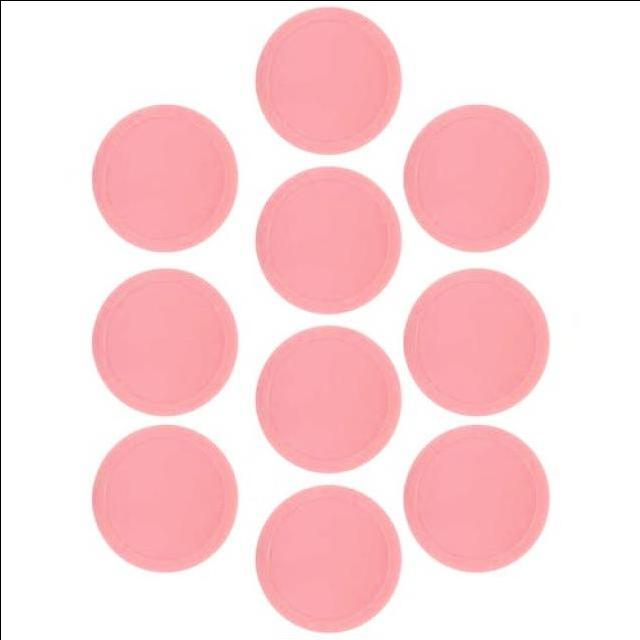chip: (252, 324, 403, 472), (255, 5, 402, 157), (401, 101, 547, 252), (401, 423, 548, 572), (254, 162, 401, 311), (405, 264, 549, 416), (90, 103, 236, 252), (91, 424, 237, 572), (92, 266, 236, 414), (256, 484, 399, 632)
